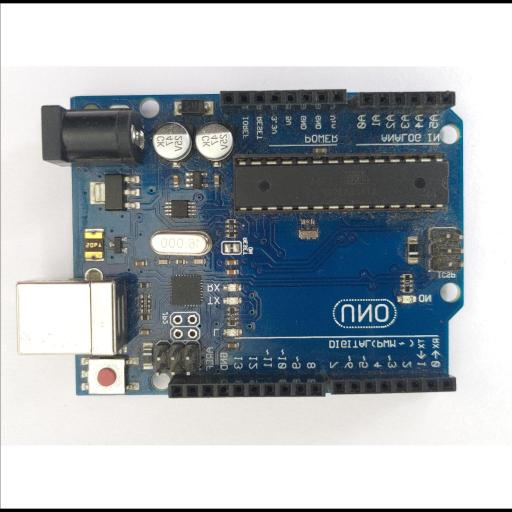Arduino Uno R3: (19, 88, 467, 398)
